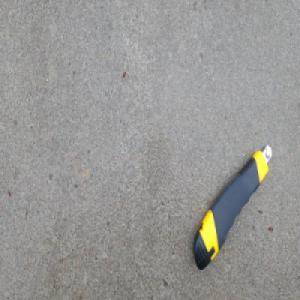Cutter: (192, 140, 273, 269)
